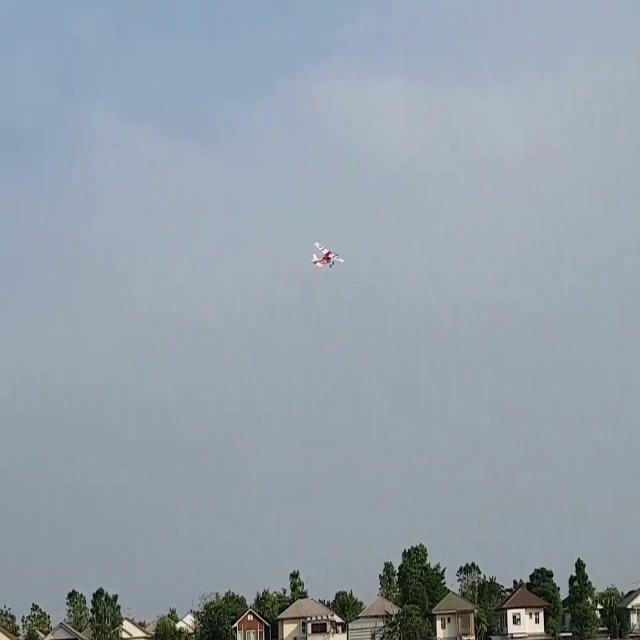iha: (305, 236, 341, 274)
